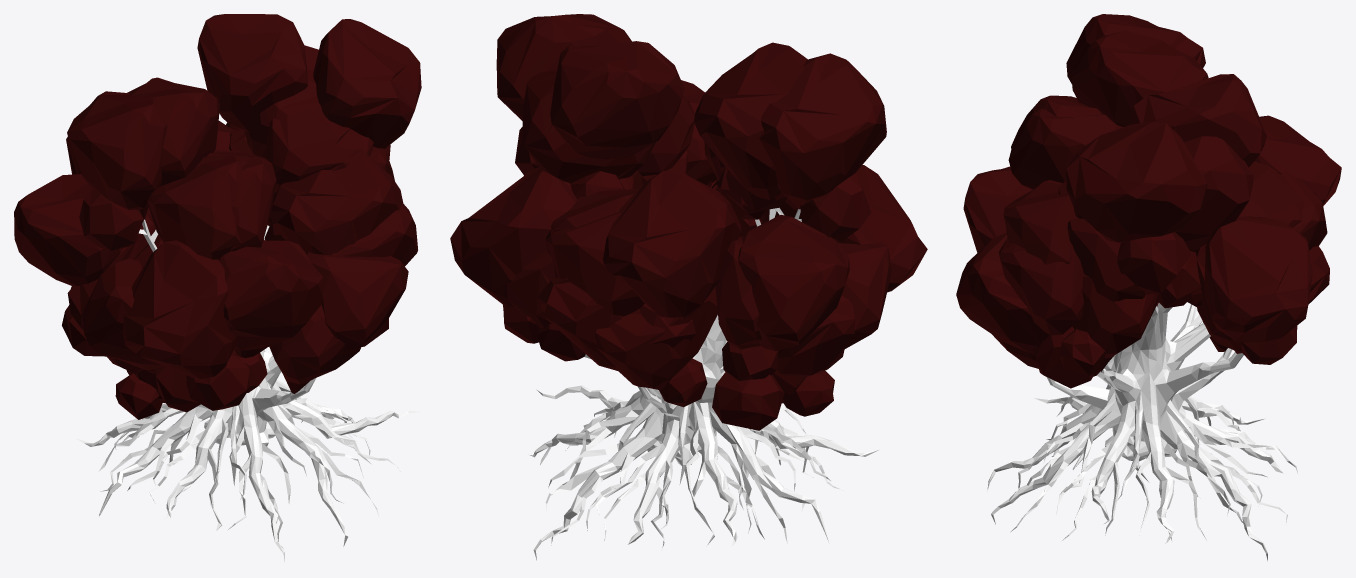
The model's file is TreeKapokier03.fbx.
3 views of the same model, side by side, from view 1: azimuth 30°, elevation 25°; view 2: azimuth 150°, elevation 25°; view 3: azimuth 270°, elevation 25° (orthographic). The views are drawn at different scales.
Visible parts, largest first — view 1: TreeKapokier03_LOD0; view 2: TreeKapokier03_LOD0; view 3: TreeKapokier03_LOD0.
Part boxes in pixels (<box>): TreeKapokier03_LOD0: <box>14,14,421,562</box>; TreeKapokier03_LOD0: <box>450,14,927,560</box>; TreeKapokier03_LOD0: <box>956,14,1341,560</box>.
Size of what is drawn, in the model's own units: 2210 by 2751 by 2086.
